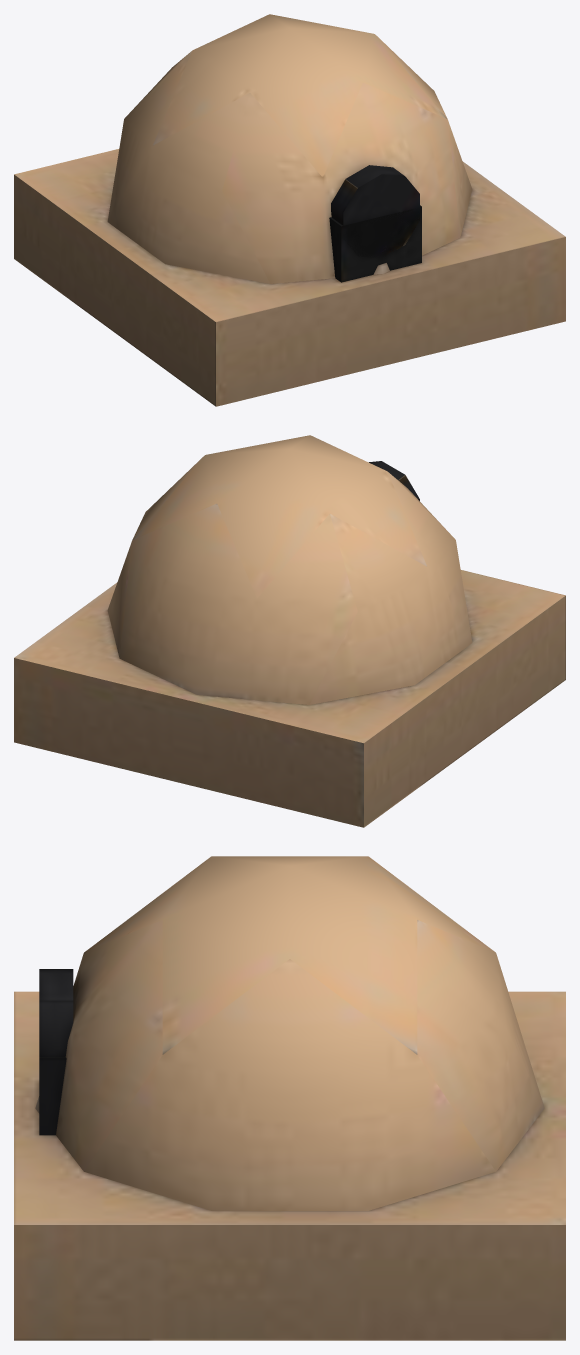
File: horno_adobe.glb
The picture shows the model from 3 angles, top to bottom: view 1: azimuth 30°, elevation 25°; view 2: azimuth 150°, elevation 25°; view 3: azimuth 270°, elevation 25°; orthographic projection. The views are drawn at different scales.
Visible parts, largest first — view 1: horno_adobe; view 2: horno_adobe; view 3: horno_adobe.
Part boxes in pixels (bbox=[...]): horno_adobe: bbox=[14, 14, 565, 406]; horno_adobe: bbox=[14, 435, 565, 827]; horno_adobe: bbox=[14, 856, 565, 1340].
Size of the model in its own units: 1.3 by 0.93 by 1.3.
Materials: 1 (1 with a texture image).
